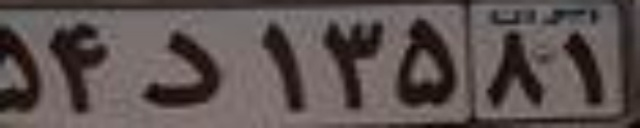1: (256, 20, 304, 113), (561, 30, 603, 105)
3: (323, 17, 386, 109)
4: (49, 24, 119, 113)
5: (393, 18, 455, 105), (0, 21, 41, 115)
8: (485, 29, 547, 106)
dal: (141, 27, 222, 107)
